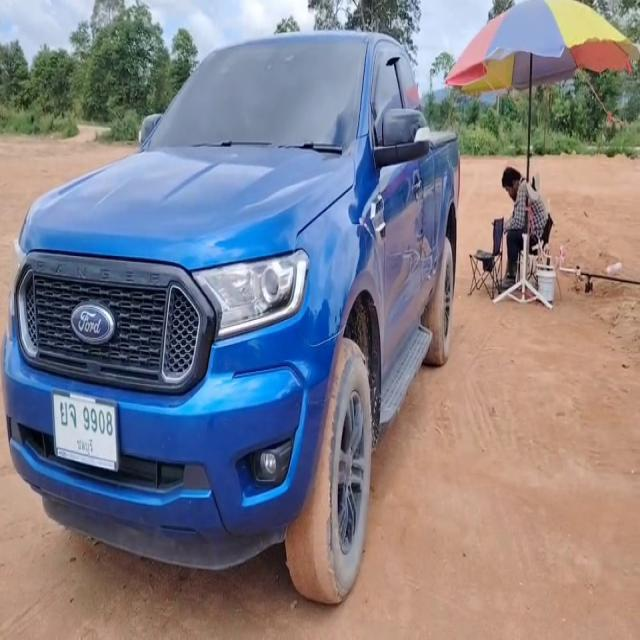Digit: (82, 406, 114, 437)
Licenseplate: (53, 390, 119, 472)
Provincename: (76, 436, 95, 457)
Thaichar: (59, 399, 78, 431)
